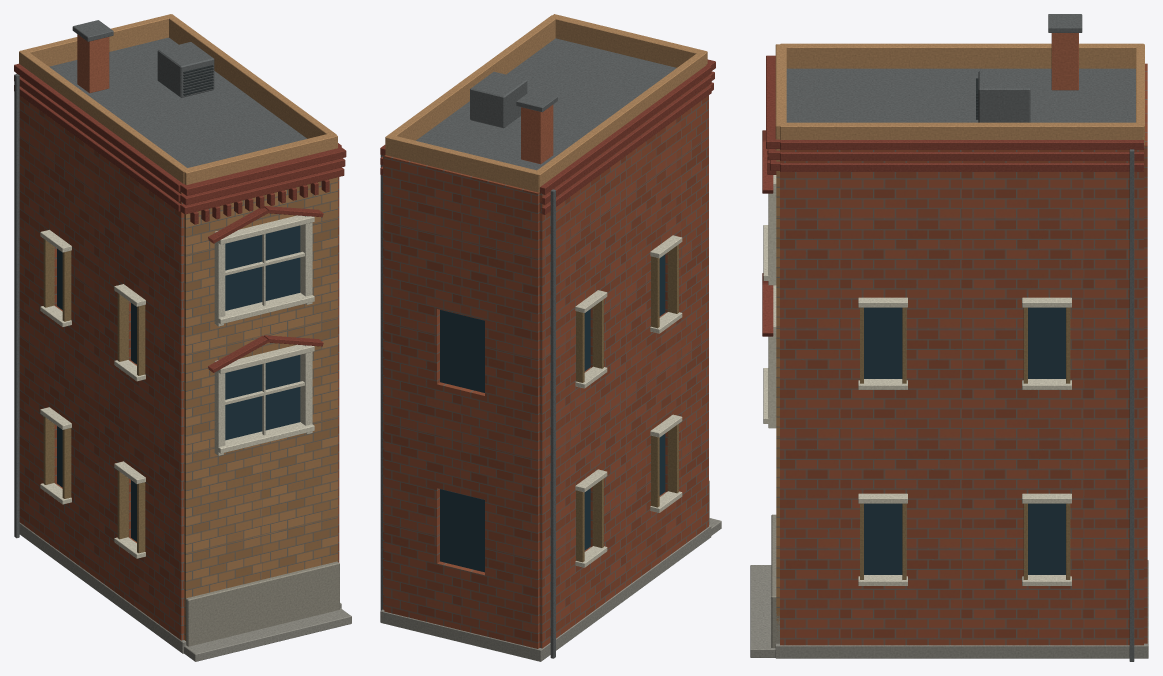
File: VICT19_lod1.glb
The picture shows the model from 3 angles, left to right: view 1: azimuth 30°, elevation 25°; view 2: azimuth 150°, elevation 25°; view 3: azimuth 270°, elevation 25°; orthographic projection. The views are drawn at different scales.
Parts seen in each view (by area): view 1: VICT19_LOD1; view 2: VICT19_LOD1; view 3: VICT19_LOD1.
Boxes of the visible parts, x1,y1,x2,y2 form: VICT19_LOD1: (14, 14, 351, 661); VICT19_LOD1: (380, 14, 721, 661); VICT19_LOD1: (750, 14, 1148, 661).
Size of the model in its own units: 3.71 by 10.45 by 6.57.
Materials: 13 (11 with a texture image).
